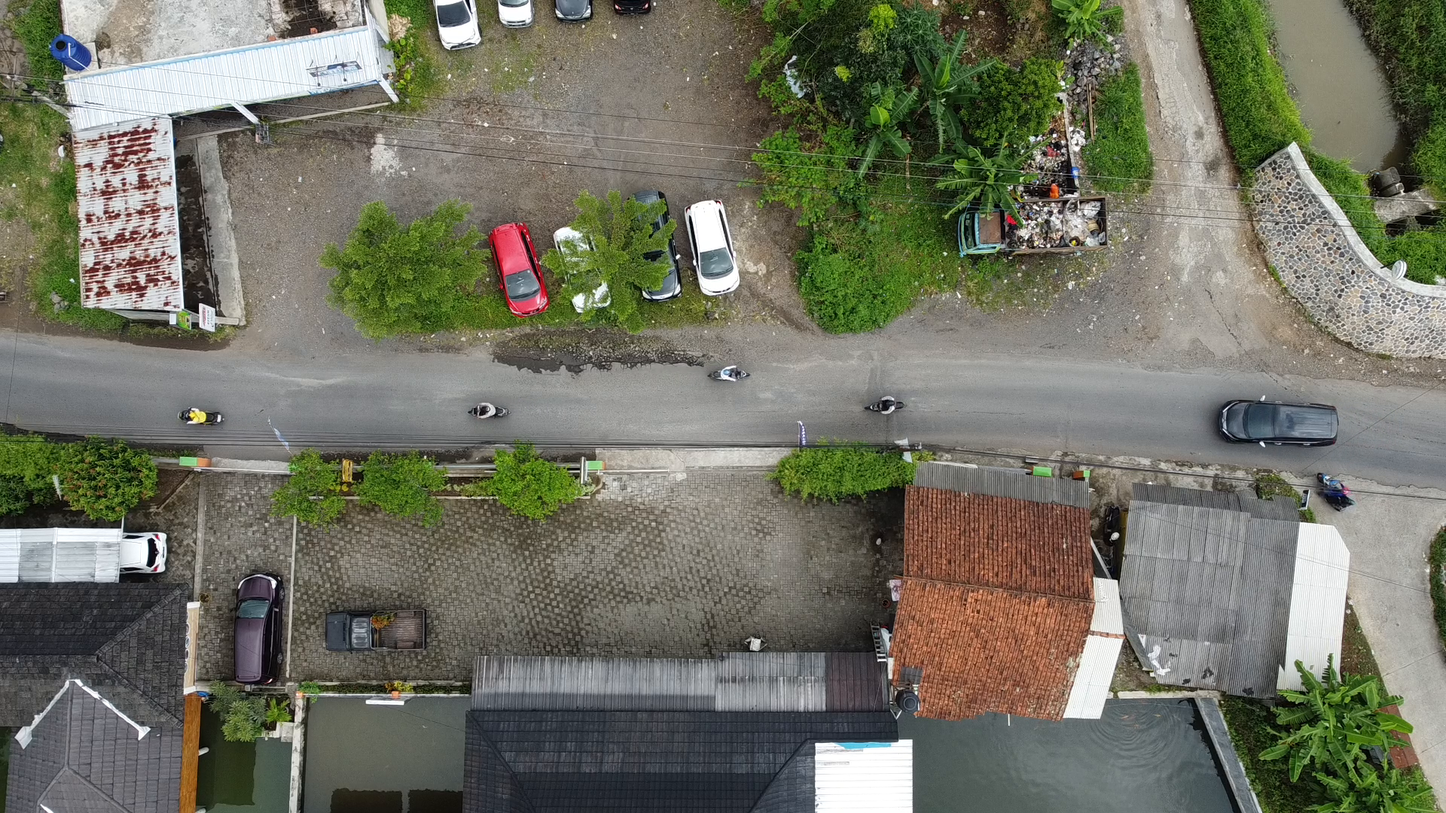mobil: (1220, 391, 1343, 456), (623, 184, 683, 310), (227, 574, 287, 693), (545, 224, 615, 324), (682, 199, 750, 297), (484, 218, 551, 316), (314, 603, 435, 656), (424, 2, 487, 56), (120, 530, 177, 578)
